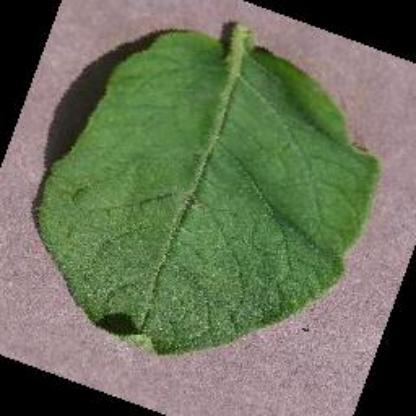Healthy-plant: (35, 22, 380, 356)
